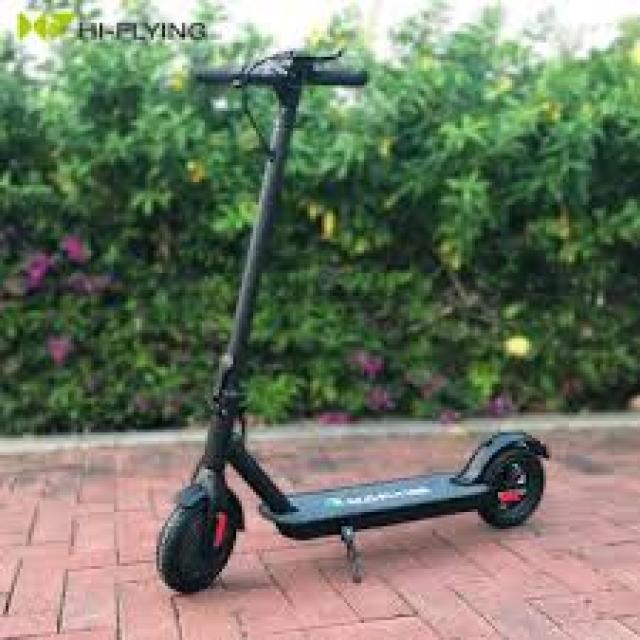bike: (155, 32, 552, 595)
car: (156, 8, 554, 594)
